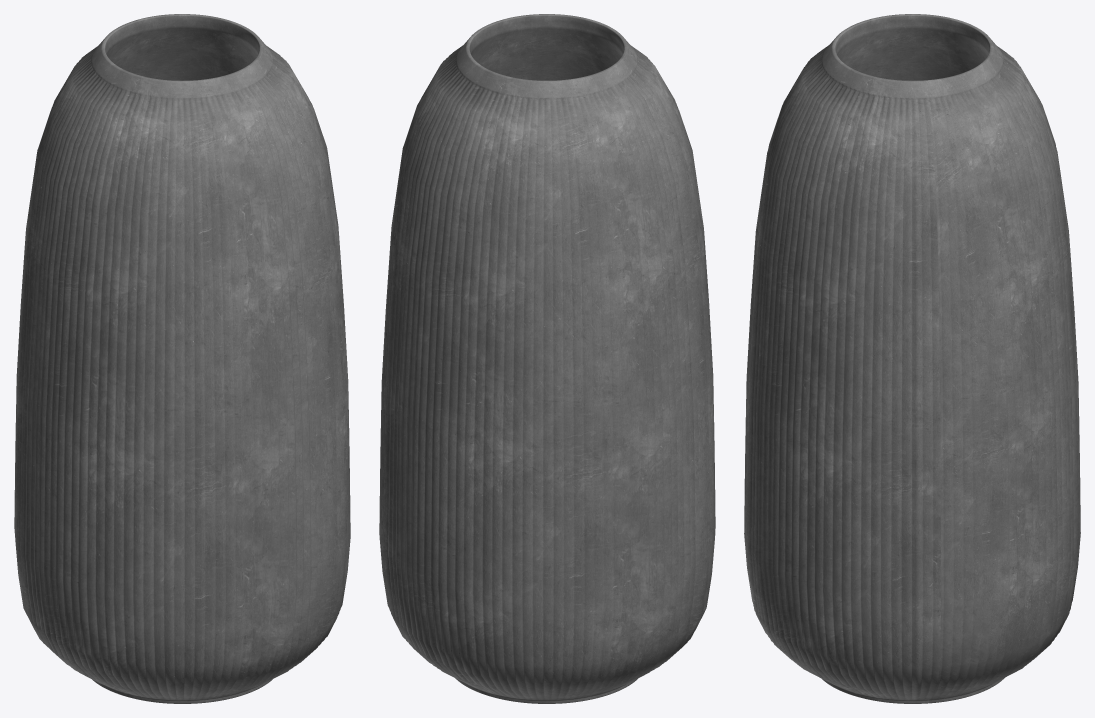
3 renders of one model, left to right at view 1: azimuth 30°, elevation 25°; view 2: azimuth 150°, elevation 25°; view 3: azimuth 270°, elevation 25°, orthographic.
Visible parts, largest first — view 1: Vases_black vase_07; view 2: Vases_black vase_07; view 3: Vases_black vase_07.
Boxes of the visible parts, x1,y1,x2,y2 form: Vases_black vase_07: (14,14,350,703); Vases_black vase_07: (379,14,715,703); Vases_black vase_07: (744,14,1080,703).
Bounding box in the file's own units: 0.1141 × 0.23 × 0.1142.
1 material, 1 textured.
